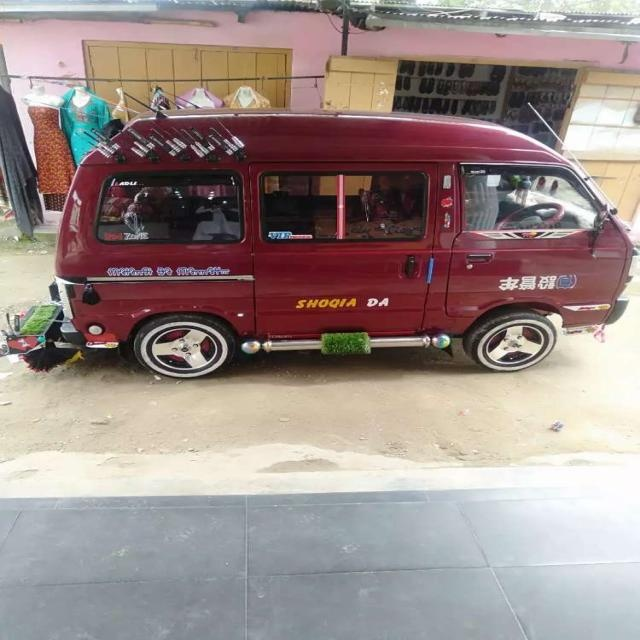Van: (48, 112, 638, 380)
